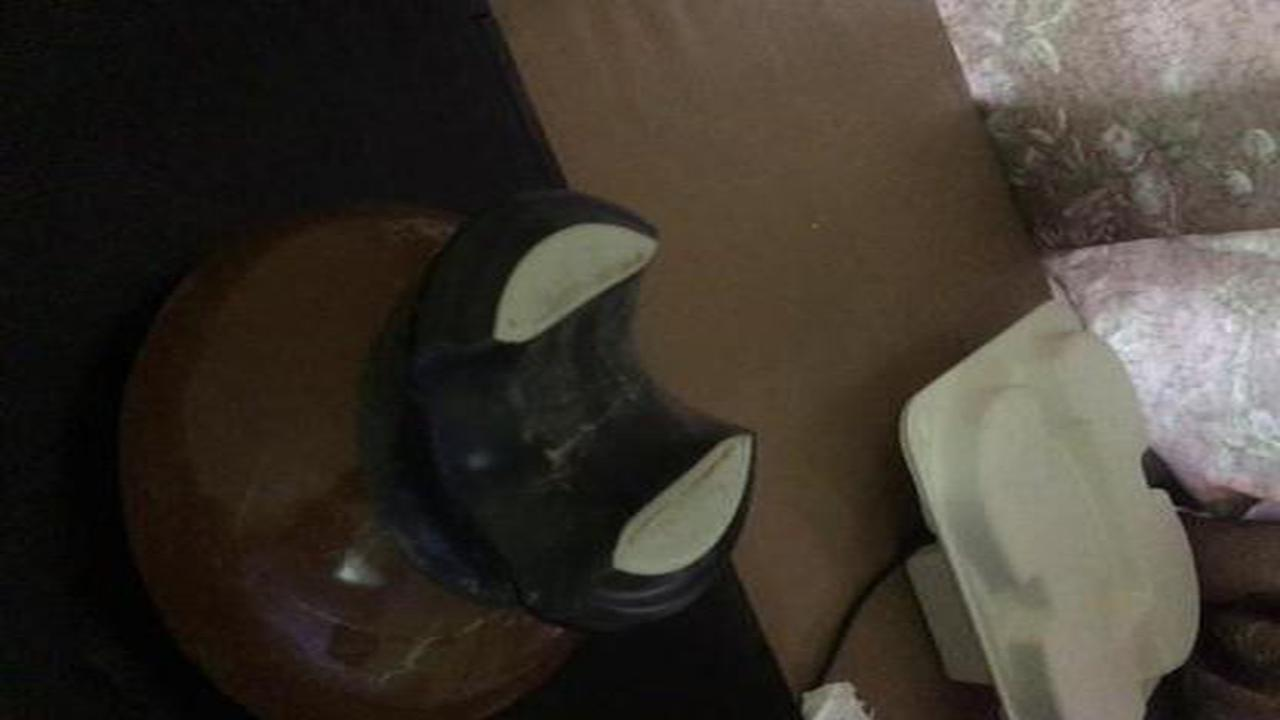insulator_pin: (90, 191, 785, 714)
